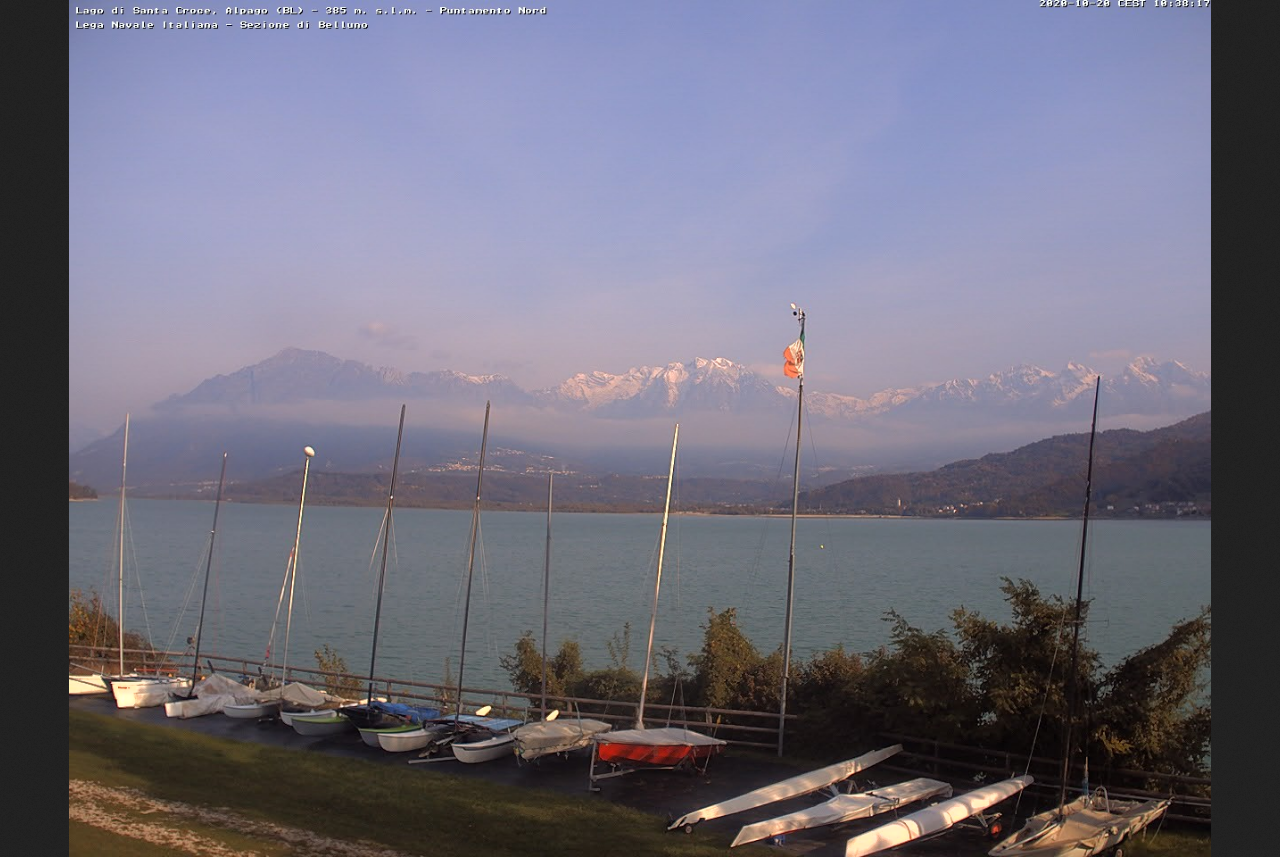maybe: (779, 333, 809, 387)
